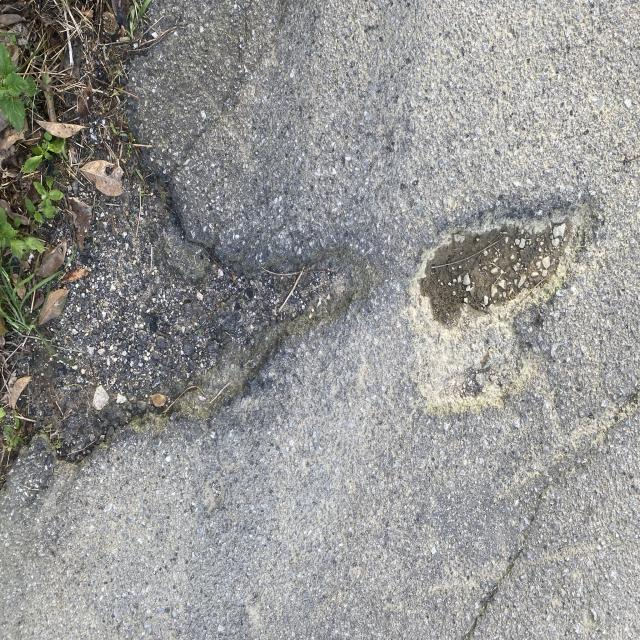pothole: (61, 126, 398, 458), (414, 184, 640, 340)
